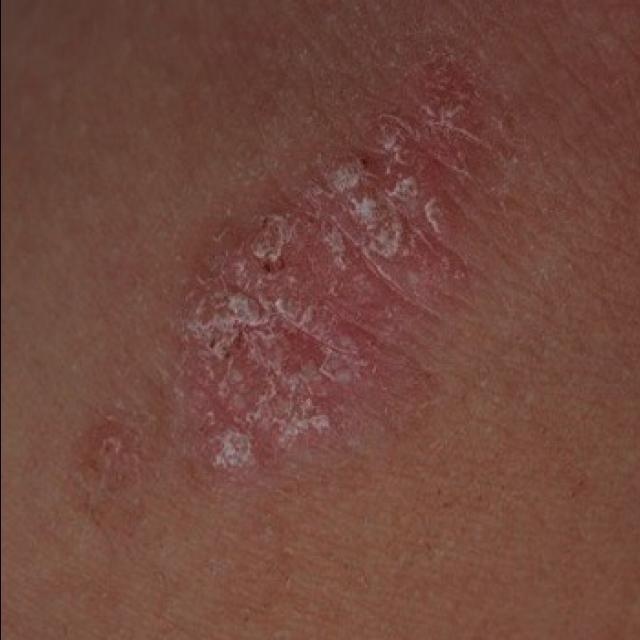Psoriasis: (141, 36, 525, 502)
